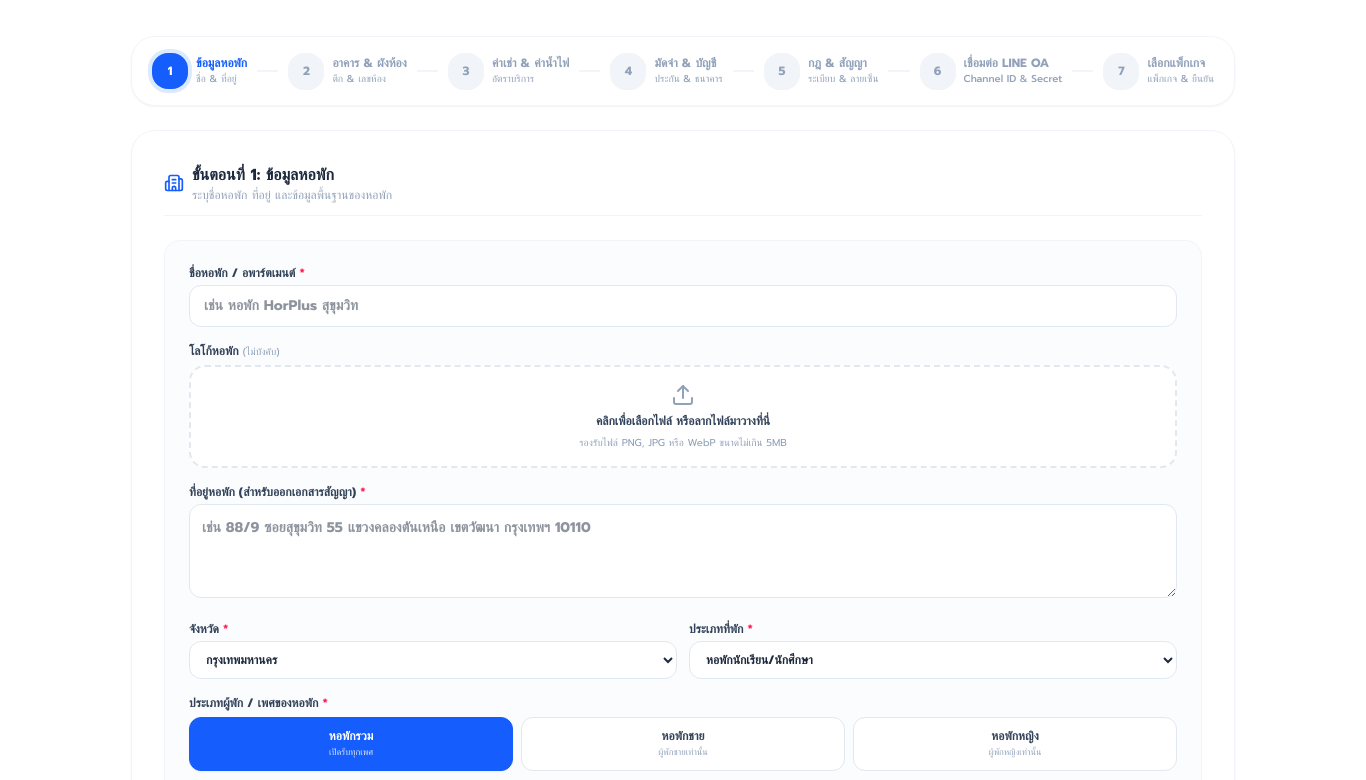
Test: Onboarding Registration Stability & UI Parity (SPEC-ORS-01) › 1. Bank Account Name & QR Code Disabled State Parity in Registration (ORS-04) › disables bank account number, name, and QR code uploader when bank is unselected
In the field with placeholder "เช่น หอพัก HorPlus สุขุมวิท": (683, 306) x1=189 y1=285 x2=1177 y2=327, type "หอพักสเตบิลิตี้"
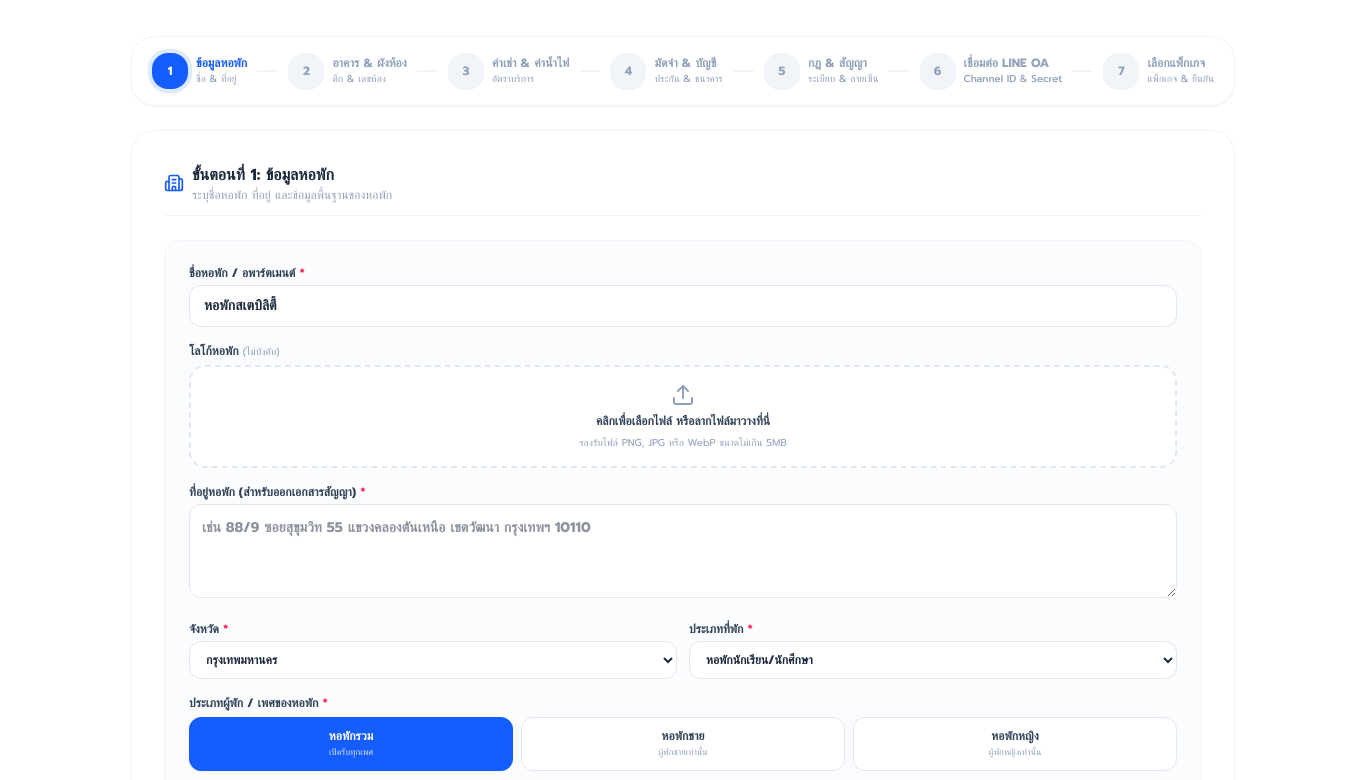
Replace the text in the text box with placeholder "เช่น 88/9 ซอยสุขุมวิท 55 แขวงคลองตันเหนือ เขตวัฒนา กรุงเทพฯ 10110" with "123 สุขุมวิท": (683, 551) x1=189 y1=504 x2=1177 y2=598
(page scrolled)
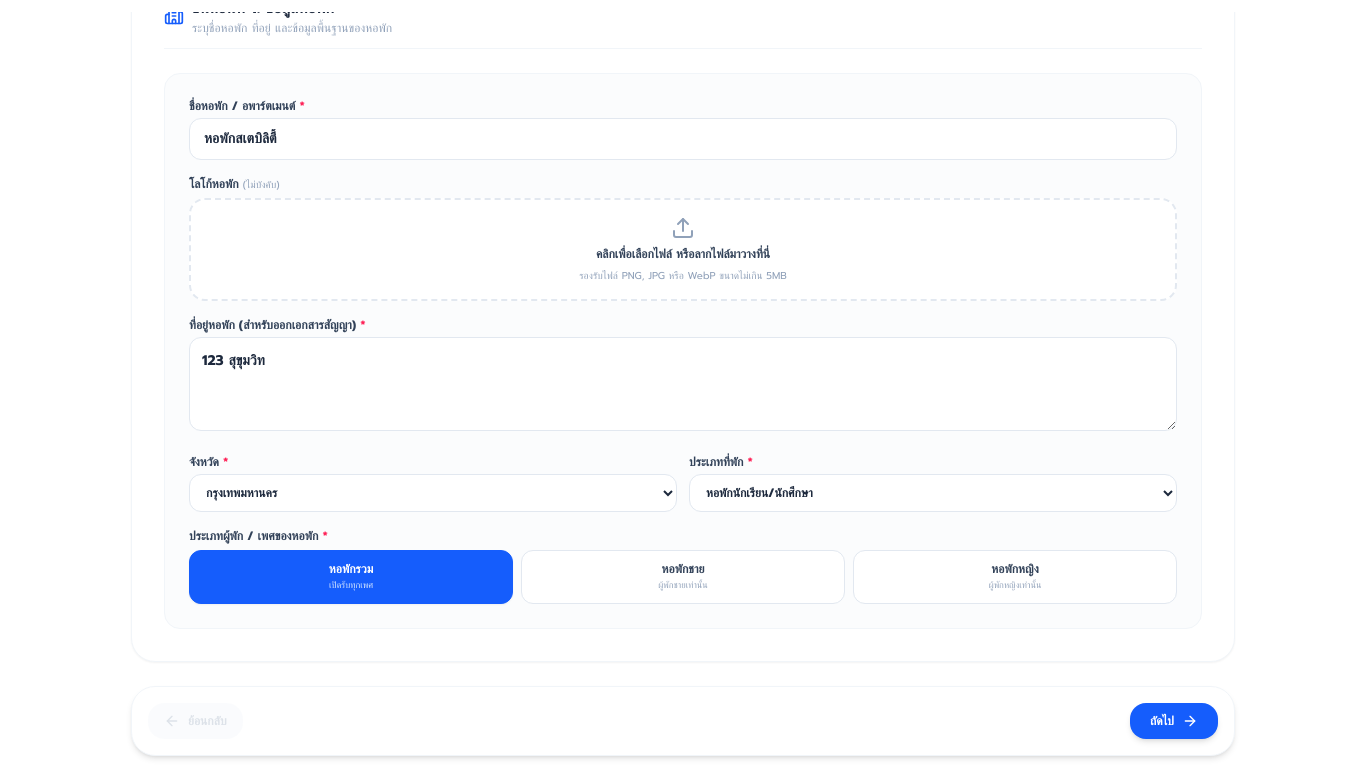
Click the button "ถัดไป": (1174, 721) x1=1130 y1=703 x2=1218 y2=739
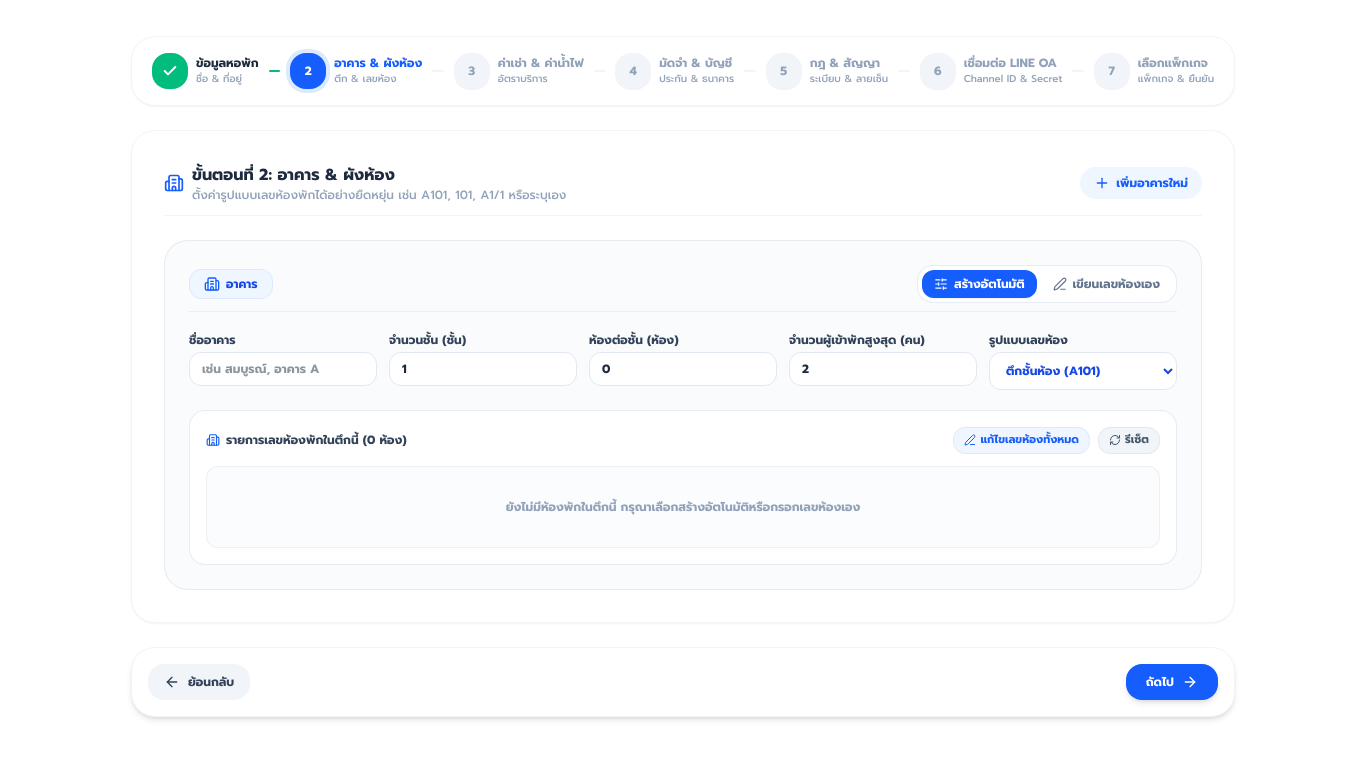
Check: the heading "ขั้นตอนที่ 2: อาคาร & ผังห้อง" is shown, box x1=192 y1=163 x2=395 y2=187
Replace the text in the field with placeholder "ระบุห้องต่อชั้น" below "ห้องต่อชั้น (ห้อง)" with "4": (683, 369) x1=589 y1=352 x2=777 y2=386
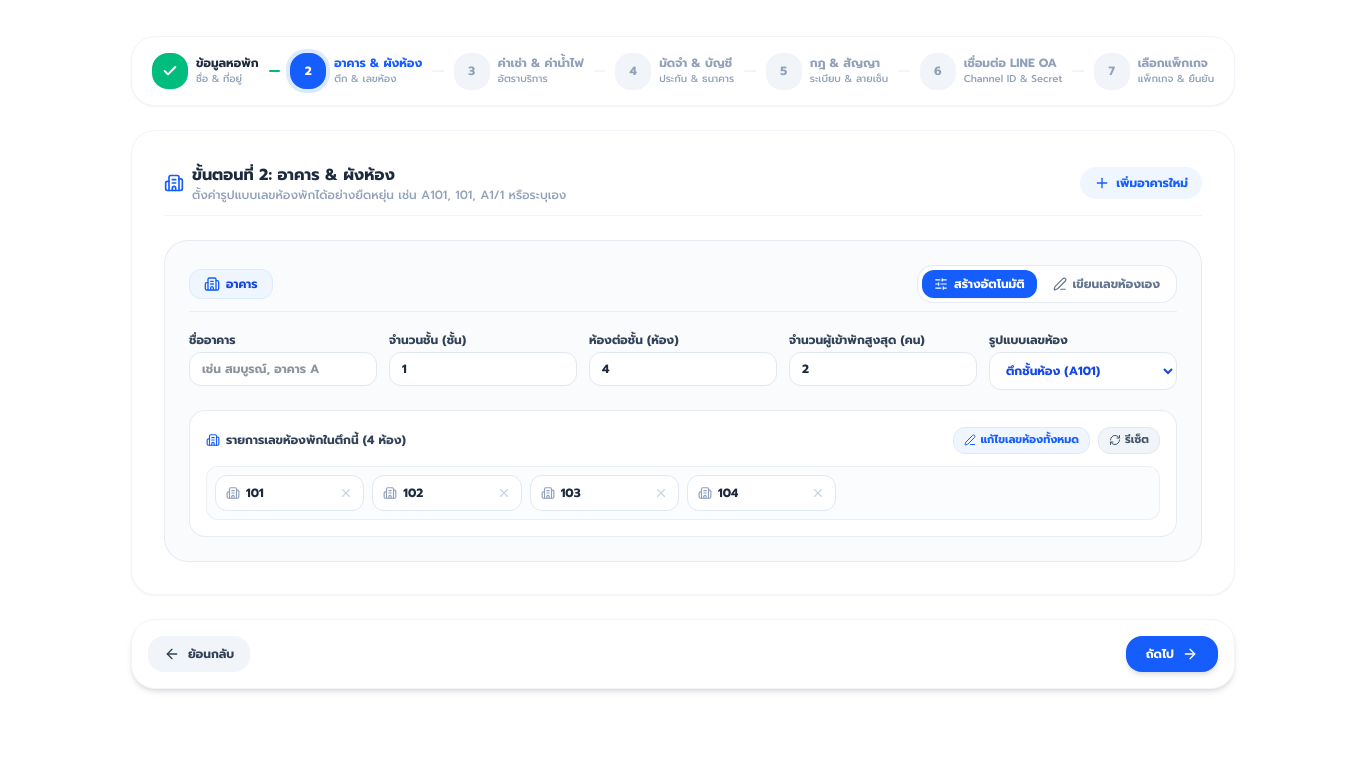
Click the button "ถัดไป": (1172, 654) x1=1126 y1=636 x2=1218 y2=672
(page scrolled)
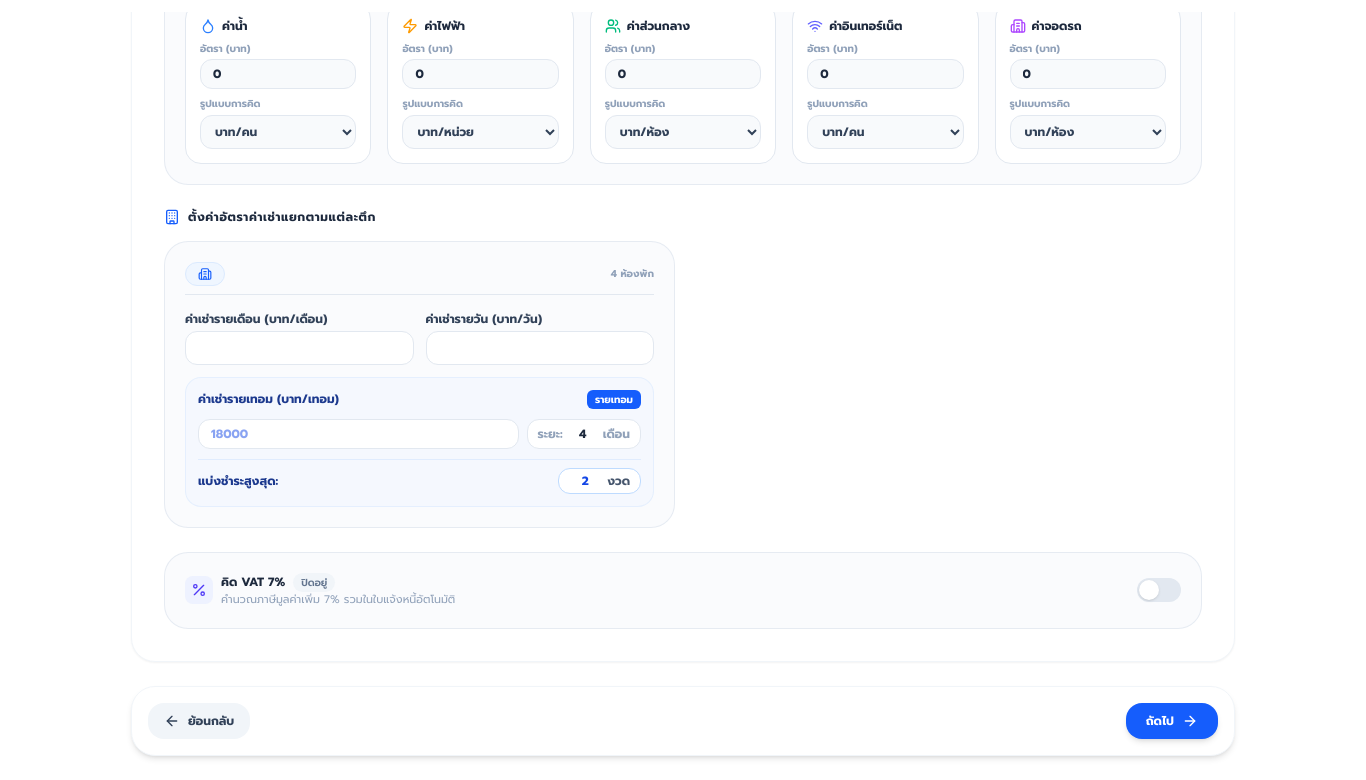
Click the button "ถัดไป": (1172, 721) x1=1126 y1=703 x2=1218 y2=739
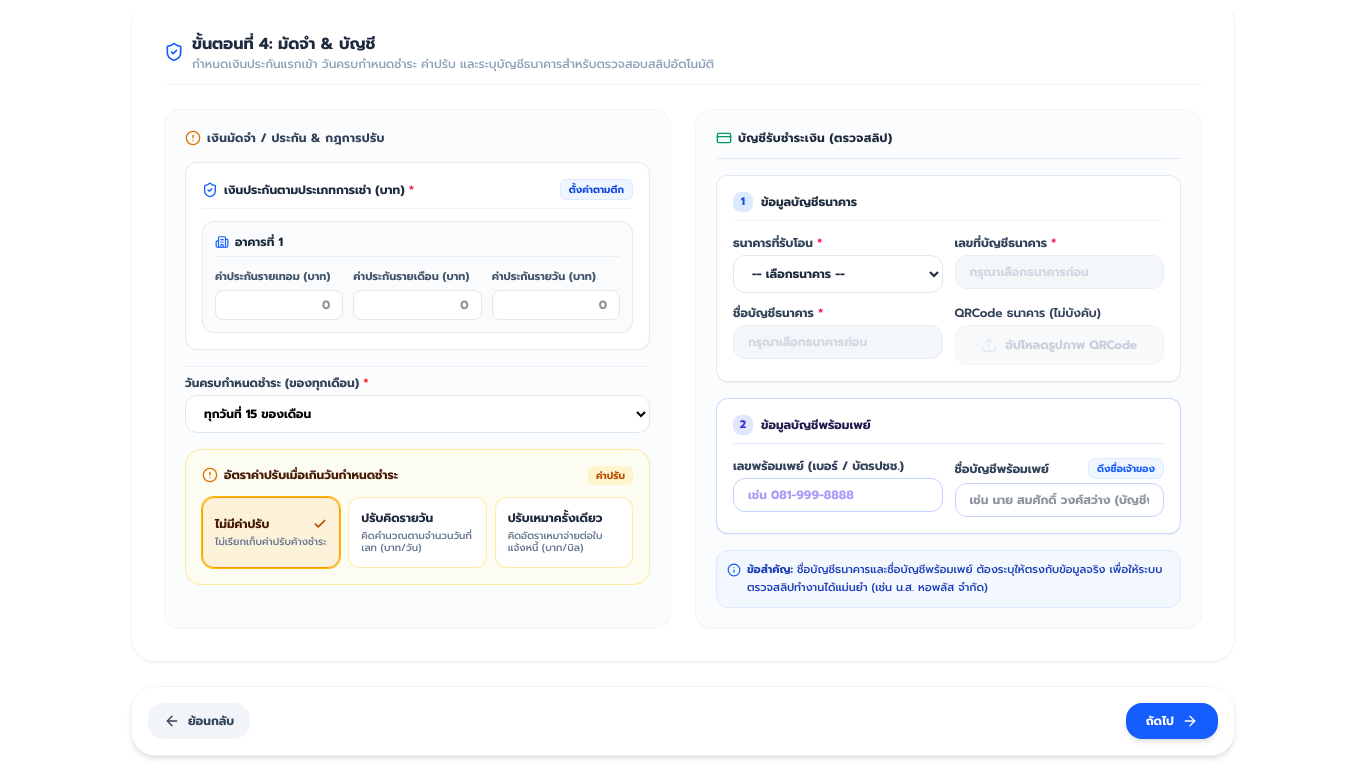
Check: the heading "ขั้นตอนที่ 4: มัดจำ & บัญชี" is shown, box x1=192 y1=32 x2=376 y2=56
Check: the dropdown with test id "select-payment-bank-name" shows "-- เลือกธนาคาร --", box x1=733 y1=255 x2=942 y2=293
Check: the field with test id "input-payment-account-number" is disabled, box x1=954 y1=255 x2=1164 y2=289
